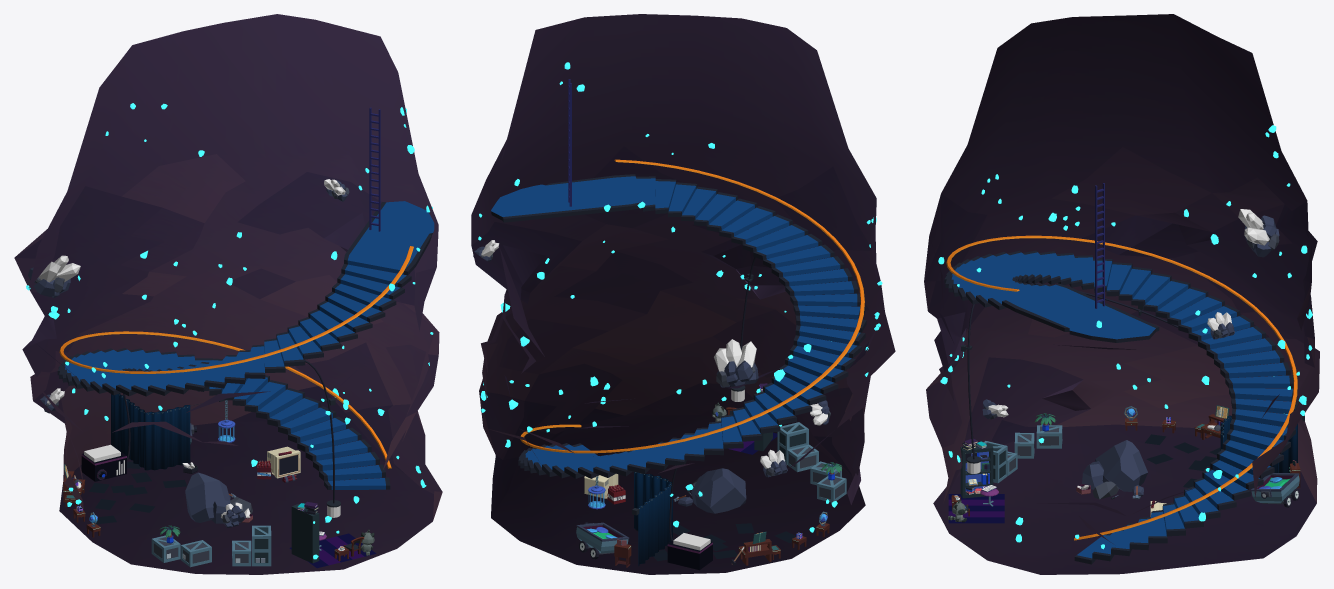
The model's file is INT_GeolodgerCave.fbx.
3 views of the same model, side by side, from view 1: azimuth 30°, elevation 25°; view 2: azimuth 150°, elevation 25°; view 3: azimuth 270°, elevation 25° (orthographic).
Visible parts, largest first — view 1: Cylinder.129, Stairs.008, NurbsPath.029, Gem.022, Bookshelf01.016, OilzwellGenerator.002, Poster.111, Cube.333, Plane.122, Cube.360, Crate_2_mesh.011, Crate_1_mesh.016 (+1 smaller); view 2: Cylinder.129, Stairs.008, NurbsPath.029, Gem.022, OilzwellGenerator.002, Cube.344, Poster.111, Crate_2_mesh.011, Crate_1_mesh.017, Crate_1_mesh.015, Cube.364; view 3: Cylinder.129, Stairs.008, Gem.022, Plane.122, Cube.344, Bookshelf01.016, Cube.333, Poster.111, NurbsPath.029, NurbsPath.030, Crate_2_mesh.011, Crate_1_mesh.015 (+1 smaller).
Boxes of the visible parts, bbox=[...] form: Cylinder.129: bbox=[14, 14, 442, 574]; Stairs.008: bbox=[57, 201, 434, 489]; NurbsPath.029: bbox=[111, 393, 190, 470]; Gem.022: bbox=[185, 472, 252, 523]; Bookshelf01.016: bbox=[291, 504, 319, 563]; OilzwellGenerator.002: bbox=[81, 444, 127, 481]; Poster.111: bbox=[89, 461, 186, 524]; Cube.333: bbox=[369, 107, 380, 231]; Plane.122: bbox=[289, 533, 376, 568]; Cube.360: bbox=[267, 446, 300, 478]; Crate_2_mesh.011: bbox=[252, 525, 271, 566]; Crate_1_mesh.016: bbox=[181, 540, 211, 567]; Cylinder.129: bbox=[471, 14, 895, 574]; Stairs.008: bbox=[491, 159, 866, 478]; NurbsPath.029: bbox=[634, 471, 672, 566]; Gem.022: bbox=[678, 468, 746, 513]; OilzwellGenerator.002: bbox=[667, 533, 712, 570]; Cube.344: bbox=[576, 522, 629, 559]; Poster.111: bbox=[653, 523, 796, 561]; Crate_2_mesh.011: bbox=[777, 422, 808, 464]; Crate_1_mesh.017: bbox=[787, 444, 818, 472]; Crate_1_mesh.015: bbox=[817, 476, 846, 502]; Cube.364: bbox=[738, 539, 772, 565]; Cylinder.129: bbox=[924, 14, 1319, 574]; Stairs.008: bbox=[944, 235, 1299, 564]; Gem.022: bbox=[1082, 440, 1147, 499]; Plane.122: bbox=[948, 494, 1004, 523]; Cube.344: bbox=[1251, 473, 1299, 507]; Bookshelf01.016: bbox=[960, 444, 993, 498]; Cube.333: bbox=[1095, 183, 1104, 308]; Poster.111: bbox=[1145, 434, 1264, 487]; NurbsPath.029: bbox=[1220, 415, 1297, 472]; NurbsPath.030: bbox=[967, 282, 1243, 459]; Crate_2_mesh.011: bbox=[983, 441, 1007, 483]; Crate_1_mesh.015: bbox=[1036, 425, 1062, 448].
Size of the model in its own units: 3164 by 3638 by 2897.
